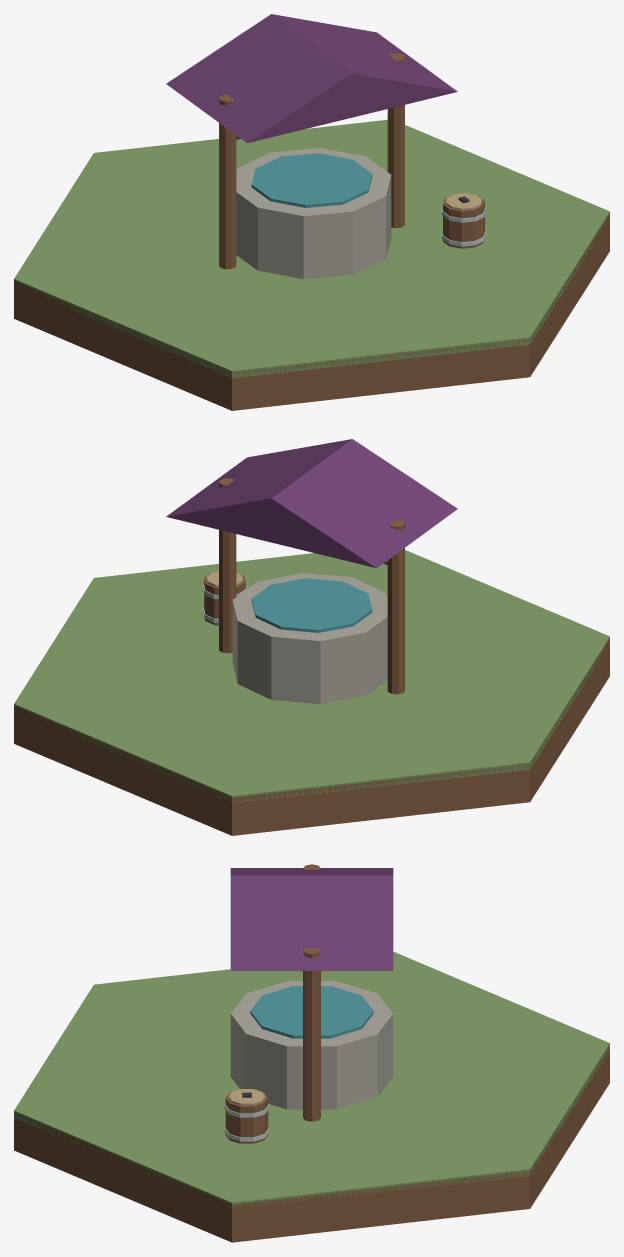
Rendered from well.glb.
3 renders of one model, top to bottom at view 1: azimuth 30°, elevation 25°; view 2: azimuth 150°, elevation 25°; view 3: azimuth 270°, elevation 25°, orthographic.
Visible parts, largest first — view 1: Cone.210, Cone.209, gable.007, Cone.211, Cone.212, Cone.213, Cone.214, Cone.216; view 2: Cone.210, Cone.209, gable.007, Cone.211, Cone.212, Cone.213, Cone.214, Cone.216; view 3: Cone.210, Cone.209, gable.007, Cone.211, Cone.212, Cone.214, Cone.216.
Part boxes in pixels (box(x1,y1,x2,y2)): Cone.210: box(14, 119, 609, 378); Cone.209: box(14, 213, 609, 410); gable.007: box(166, 14, 457, 143); Cone.211: box(236, 148, 391, 279); Cone.212: box(251, 153, 372, 207); Cone.213: box(219, 94, 236, 269); Cone.214: box(387, 53, 404, 228); Cone.216: box(443, 195, 484, 248); Cone.210: box(14, 550, 609, 803); Cone.209: box(14, 639, 609, 835); gable.007: box(166, 439, 457, 568); Cone.211: box(232, 573, 387, 704); Cone.212: box(251, 578, 372, 632); Cone.213: box(387, 519, 404, 694); Cone.214: box(219, 478, 236, 653); Cone.216: box(204, 573, 245, 625); Cone.210: box(14, 951, 609, 1208); Cone.209: box(14, 1046, 609, 1242); gable.007: box(230, 868, 393, 970); Cone.211: box(230, 981, 393, 1109); Cone.212: box(250, 986, 373, 1038); Cone.214: box(303, 948, 320, 1121); Cone.216: box(225, 1092, 268, 1143).
Size of the model in its own units: 3.67 by 1.64 by 3.67.
